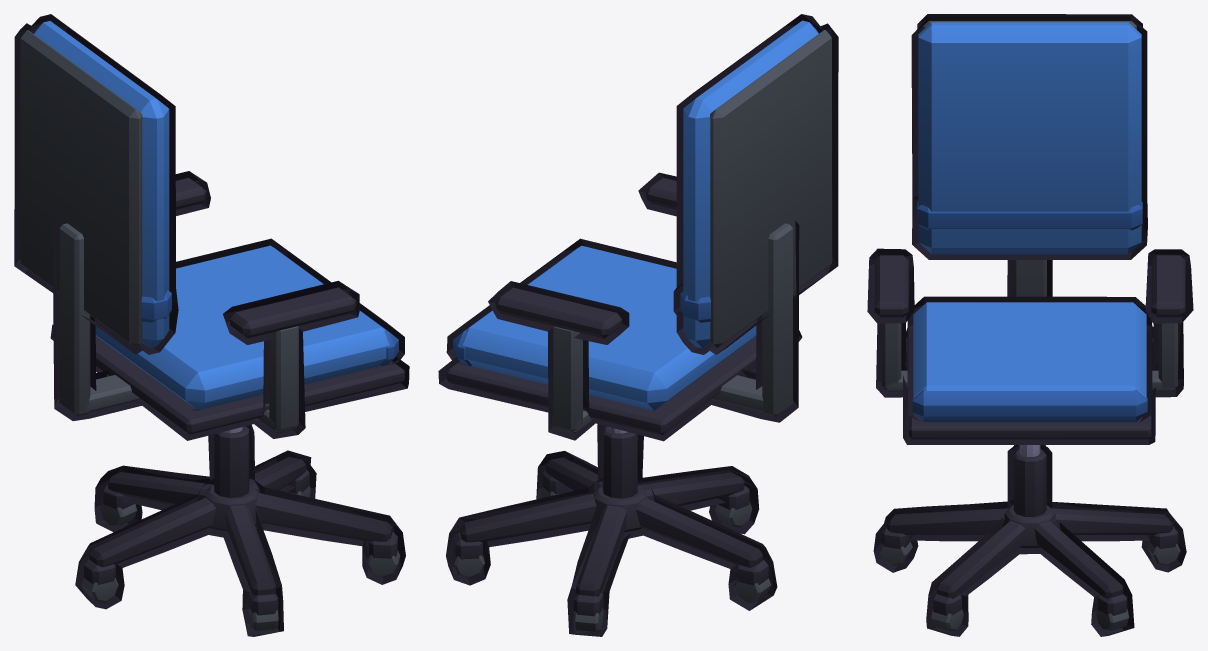
Rendered from Office_Chair_Blue_Outline.fbx.
3 views of the same model, side by side, from view 1: azimuth 30°, elevation 25°; view 2: azimuth 150°, elevation 25°; view 3: azimuth 270°, elevation 25° (orthographic). The views are drawn at different scales.
Visible parts, largest first — view 1: Office_Chair_Blue; view 2: Office_Chair_Blue; view 3: Office_Chair_Blue.
Boxes of the visible parts, x1=… form: Office_Chair_Blue: x1=14, y1=14, x2=409, y2=636; Office_Chair_Blue: x1=438, y1=14, x2=838, y2=636; Office_Chair_Blue: x1=867, y1=14, x2=1193, y2=636.
Bounding box in the file's own units: 2.6 × 4.57 × 2.66.
1 material, 1 textured.
